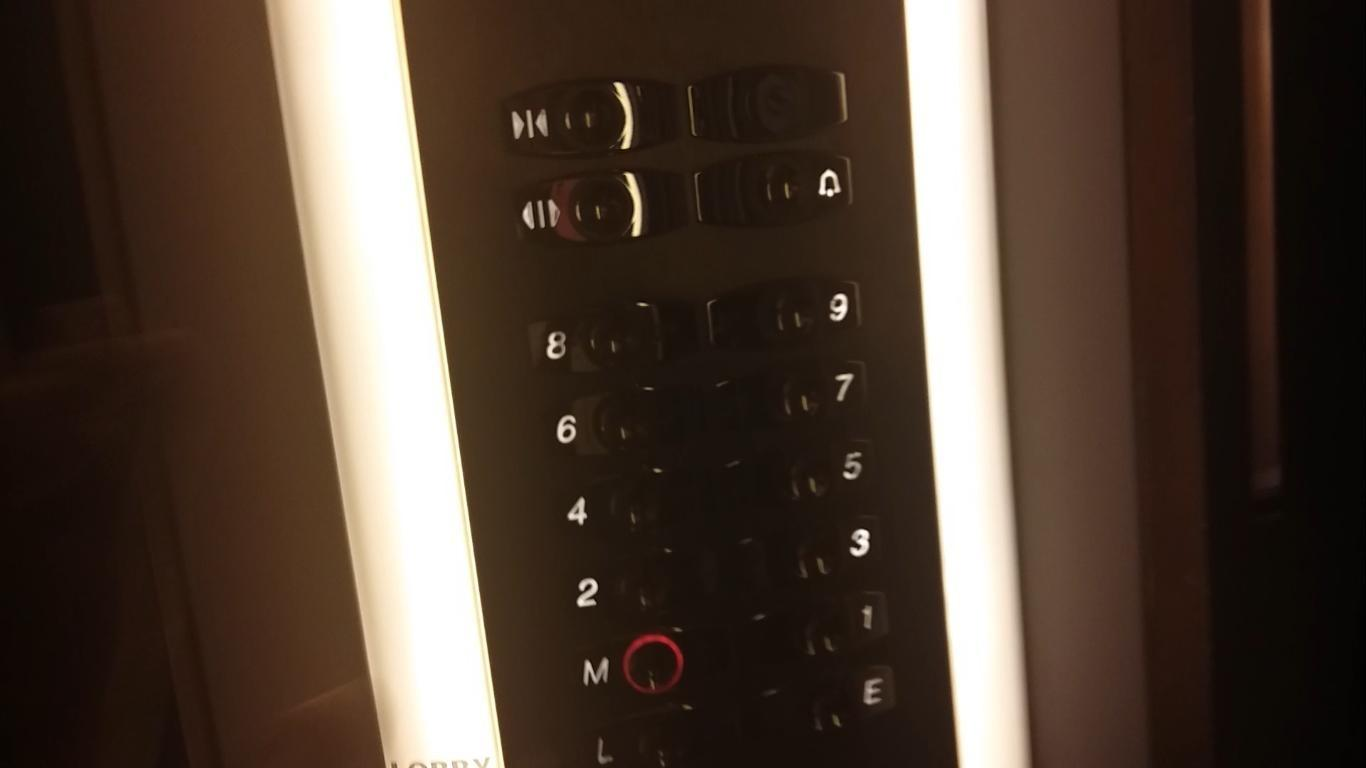1: (728, 591, 890, 664)
2: (548, 542, 711, 618)
3: (718, 520, 879, 592)
4: (538, 461, 706, 534)
5: (711, 441, 875, 512)
6: (527, 377, 705, 455)
7: (703, 351, 873, 430)
8: (521, 295, 701, 376)
9: (703, 271, 865, 348)
alarm: (686, 149, 858, 225)
blur: (679, 58, 854, 139)
close: (493, 70, 675, 156)
open: (493, 162, 688, 248)
unknown: (552, 621, 717, 699), (733, 665, 896, 738), (558, 697, 724, 767)
